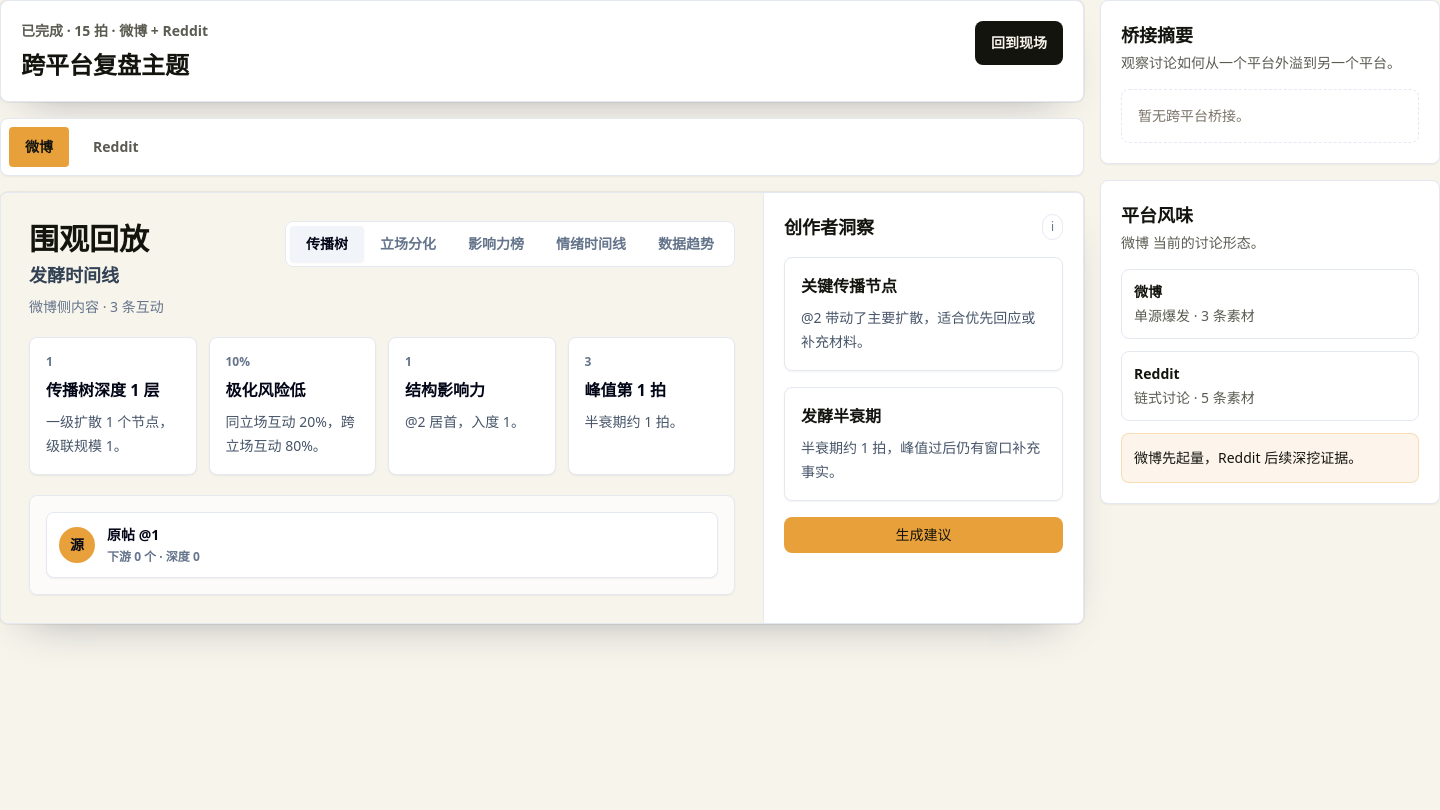
Scenario: launch retro switches platform tabs and loads the selected run analysis
The image size is (1440, 810).
Expected: the heading "跨平台复盘主题" is shown, x1=21 y1=49 x2=208 y2=81
Expected: the text "微博侧内容 · 3 条互动" is shown, x1=29 y1=297 x2=164 y2=317
Click the button "Reddit". click: (116, 147)
box: x1=77 y1=127 x2=155 y2=167
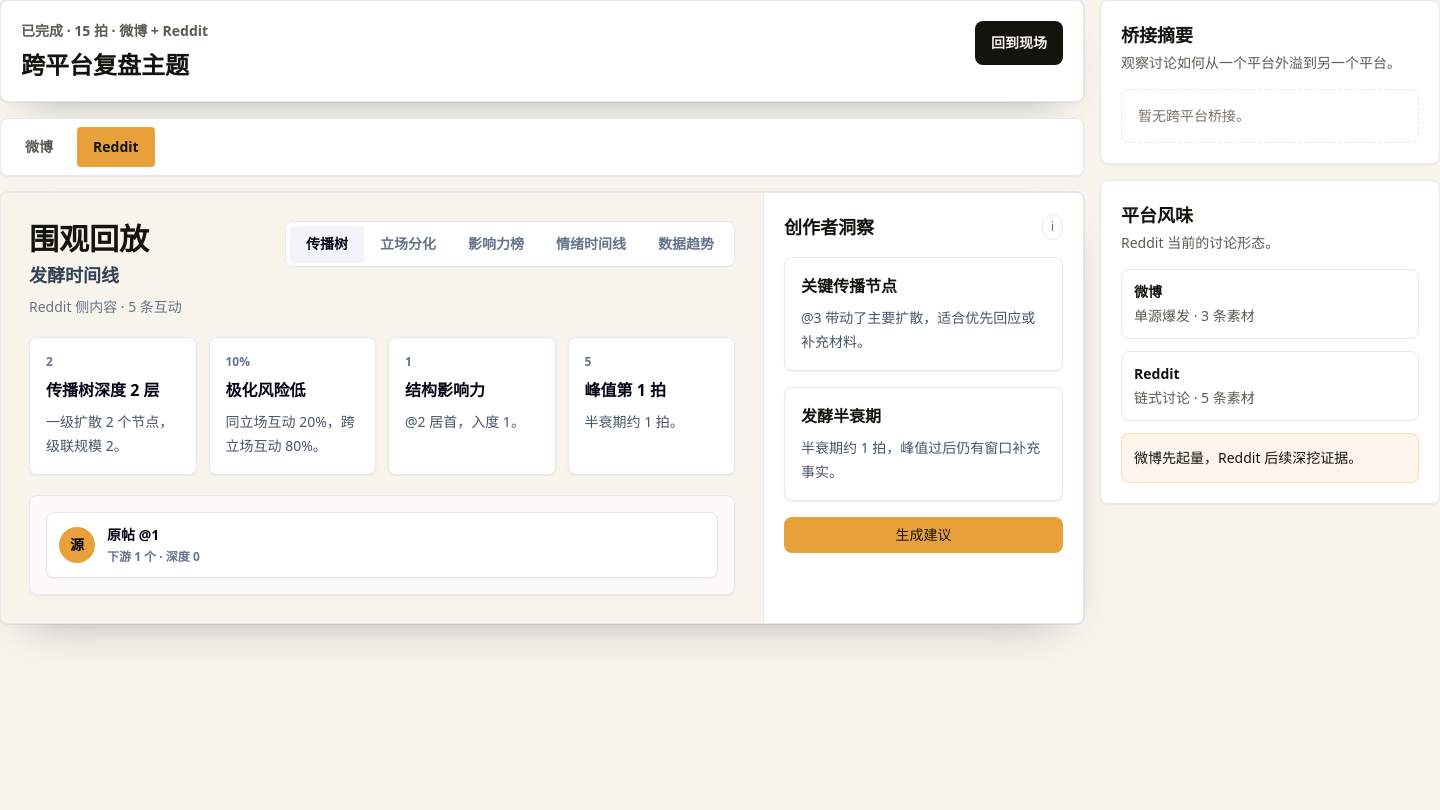
Result: the text "Reddit 侧内容 · 5 条互动" is shown at x1=29 y1=297 x2=182 y2=317
